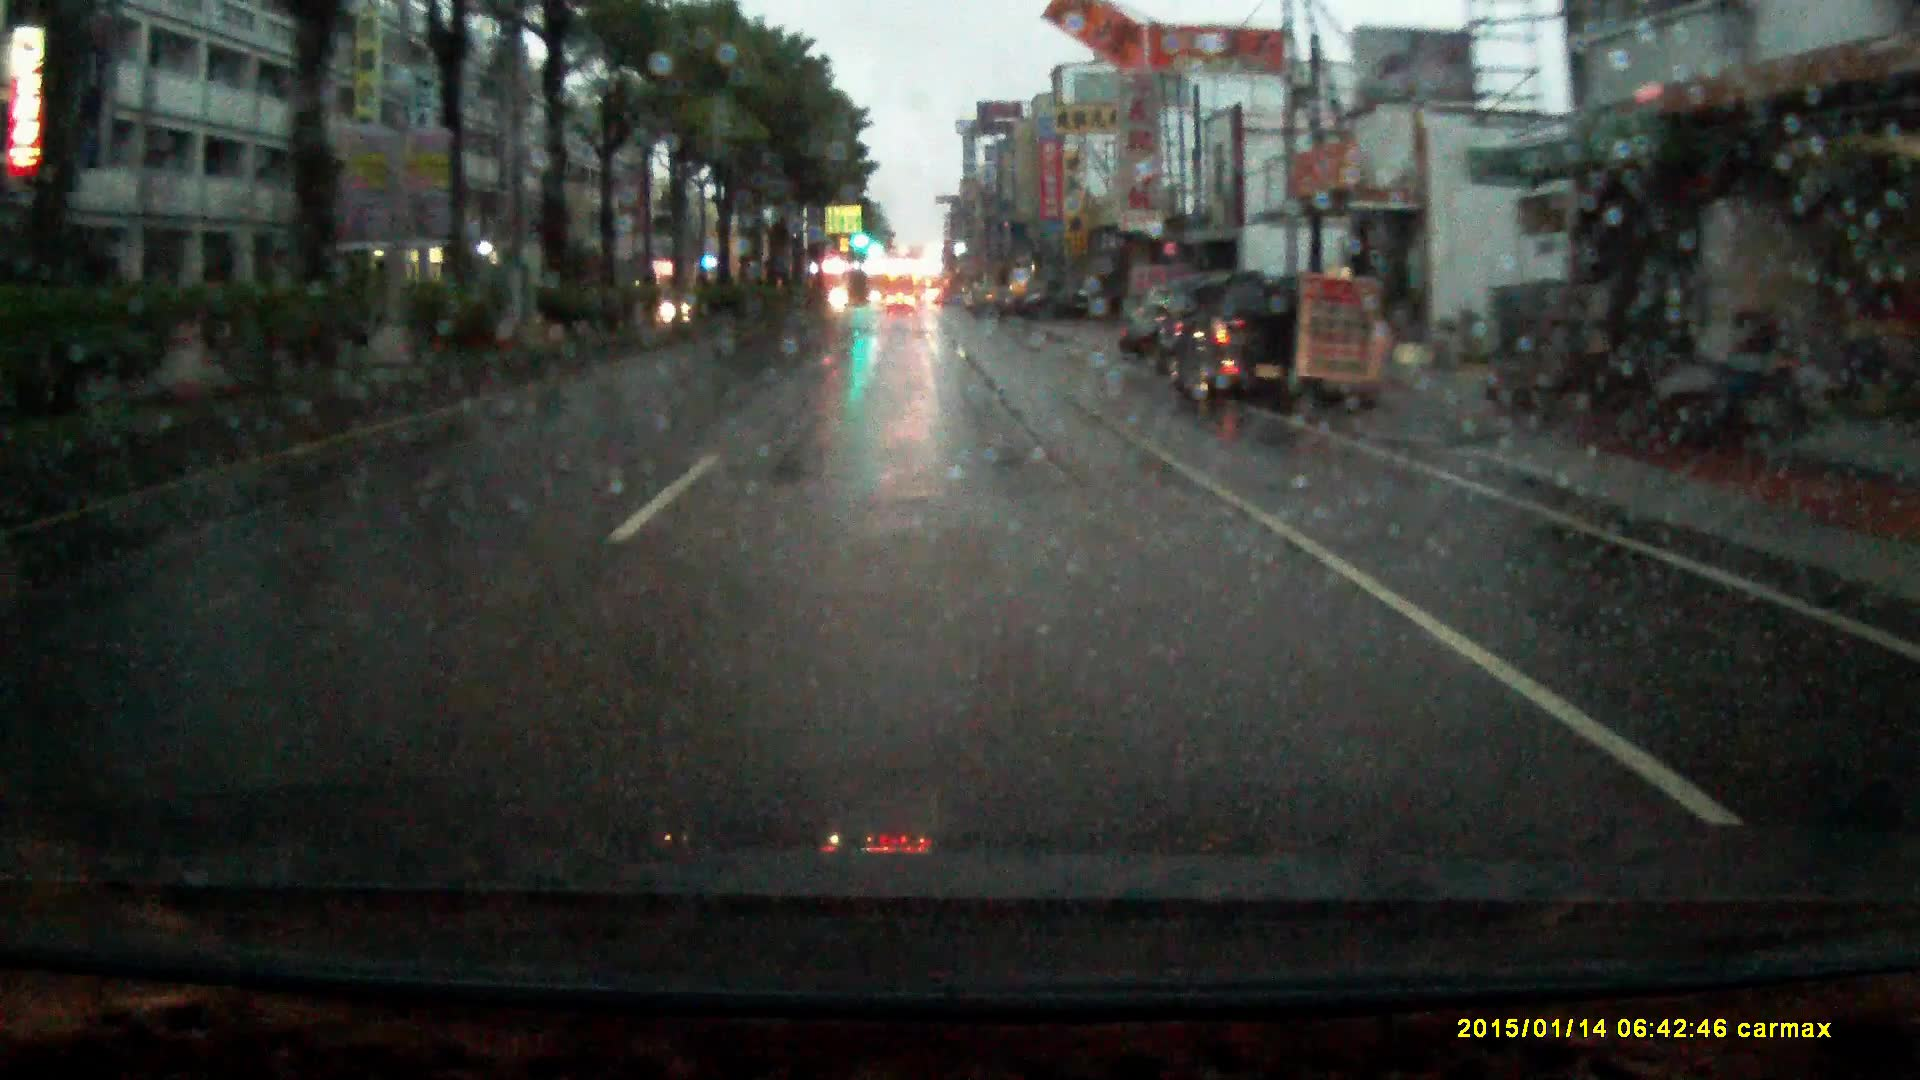vehicle: (1166, 266, 1342, 410), (886, 284, 918, 309)
